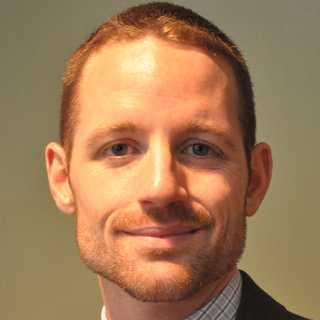eye: (172, 136, 226, 165), (96, 139, 143, 160)
